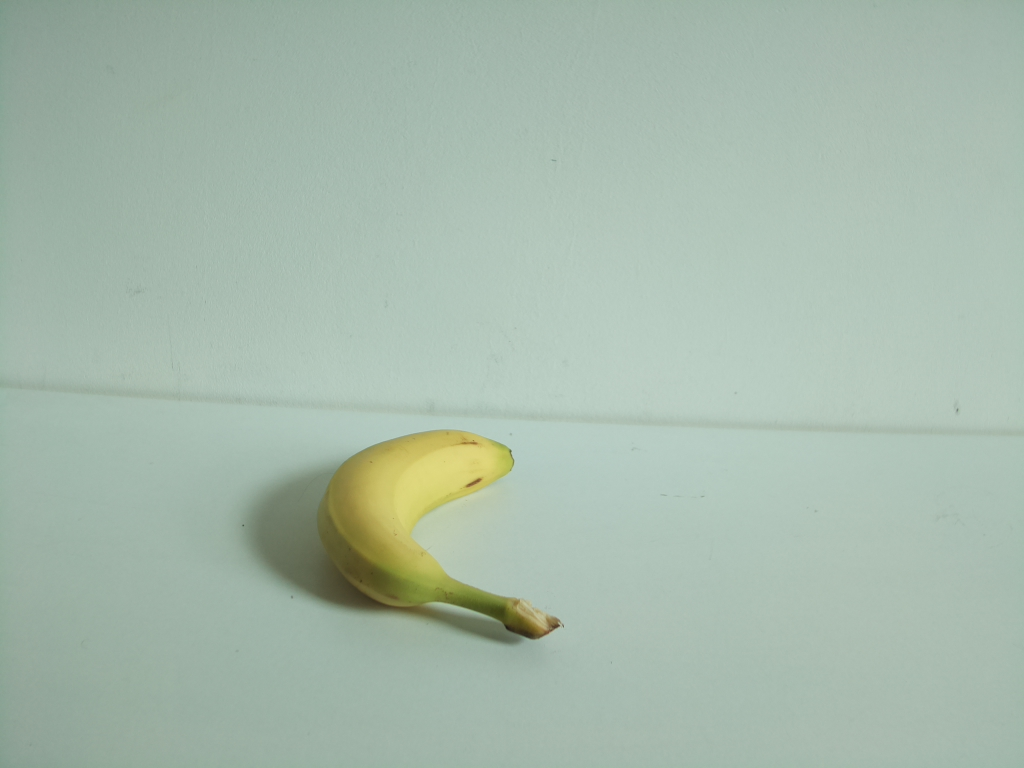banana: (315, 431, 568, 640)
